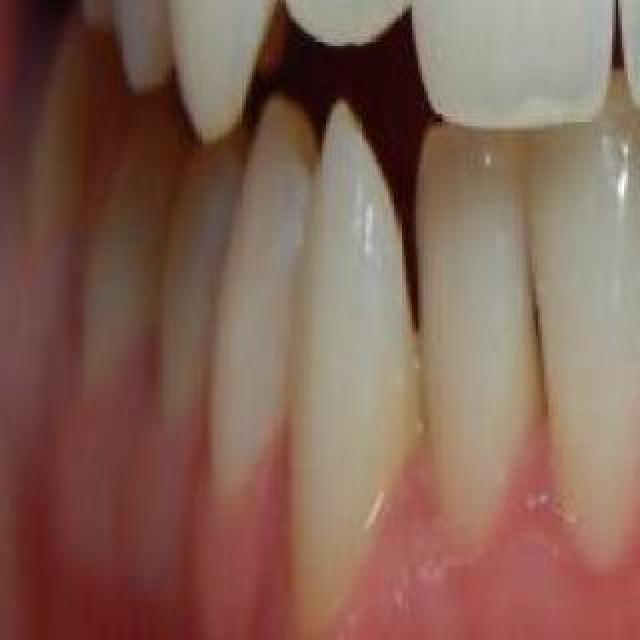maligned: (284, 100, 434, 640)
spacing: (351, 123, 457, 401), (570, 0, 640, 98)
